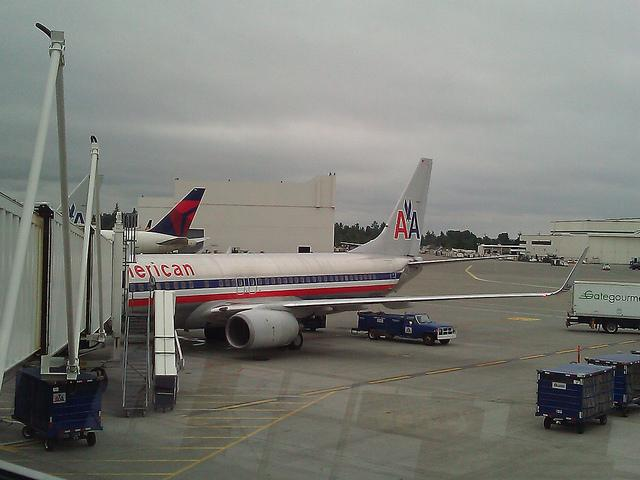airplane: (125, 156, 592, 355), (98, 185, 213, 253)
